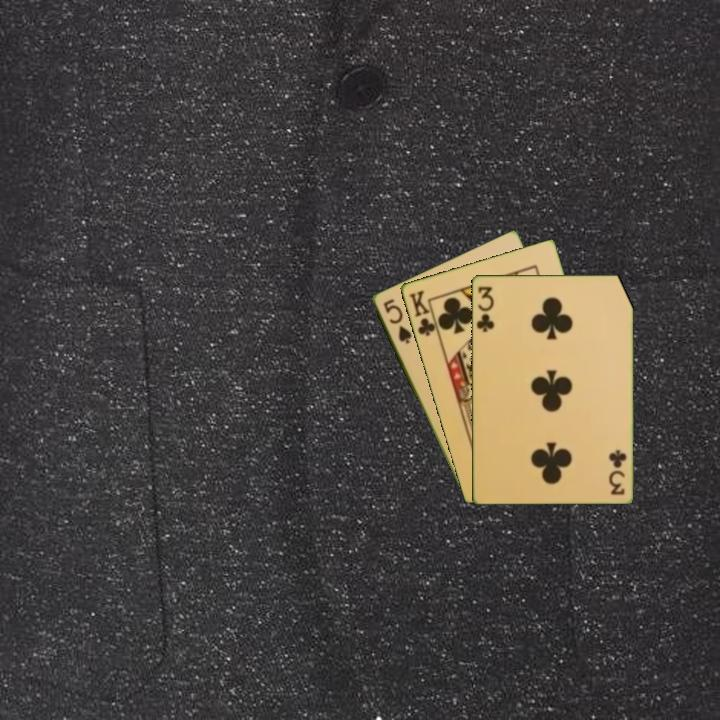3c: (473, 282, 497, 335), (607, 446, 629, 498)
5s: (379, 295, 414, 347)
Kc: (405, 286, 441, 338)
